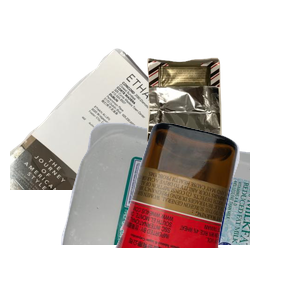glass: (113, 120, 300, 300)
paper: (10, 46, 250, 226)
plastic: (58, 120, 298, 300)
trash: (144, 55, 300, 197)
